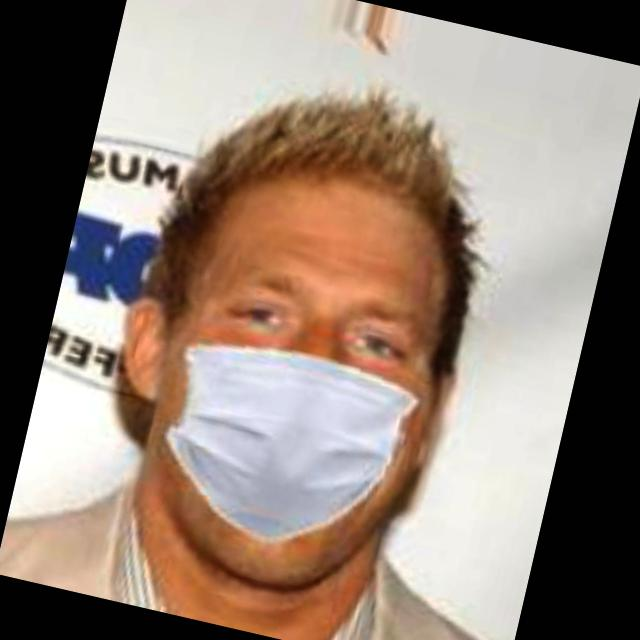suspicion: (93, 94, 504, 598)
